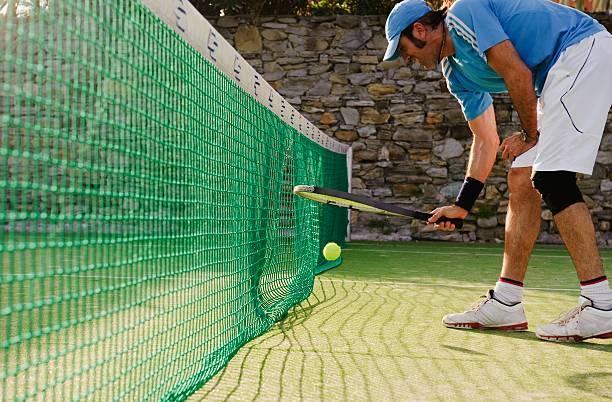ball_tennis: (322, 239, 342, 262)
